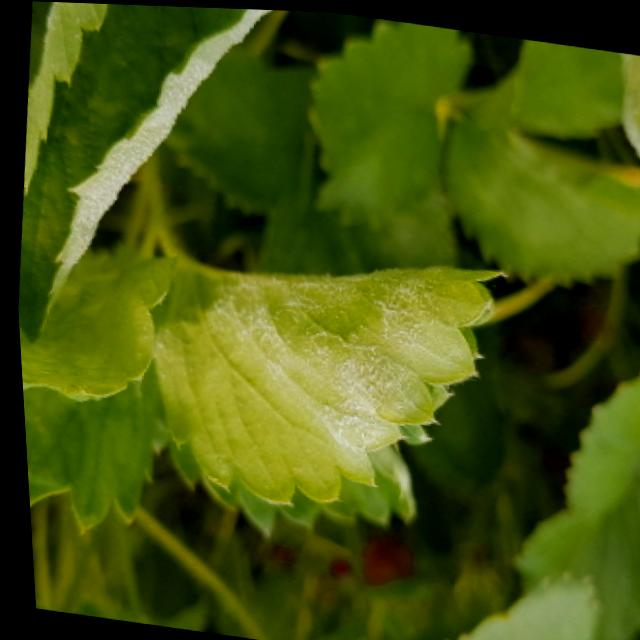Powdery Mildew Leaf: (144, 246, 508, 506), (14, 1, 271, 344), (16, 252, 174, 535), (617, 47, 640, 155)
